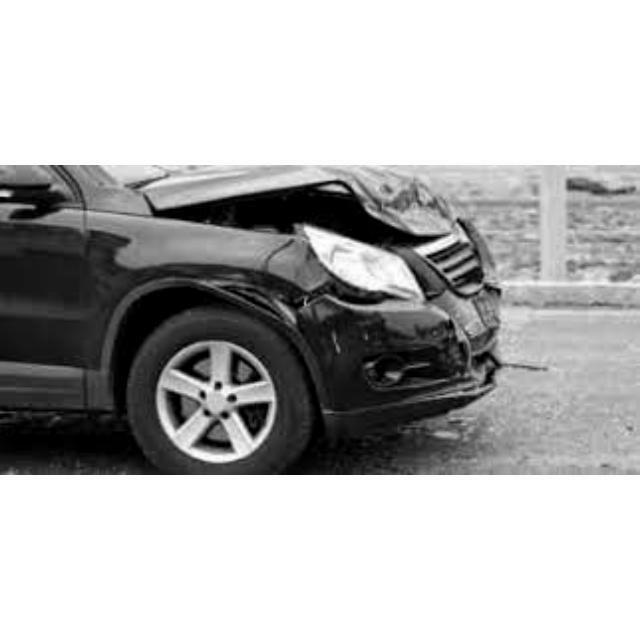bonnet-dent: (134, 166, 483, 237)
fender-dent: (92, 219, 294, 332)
front-bumper-dent: (289, 283, 499, 416)
